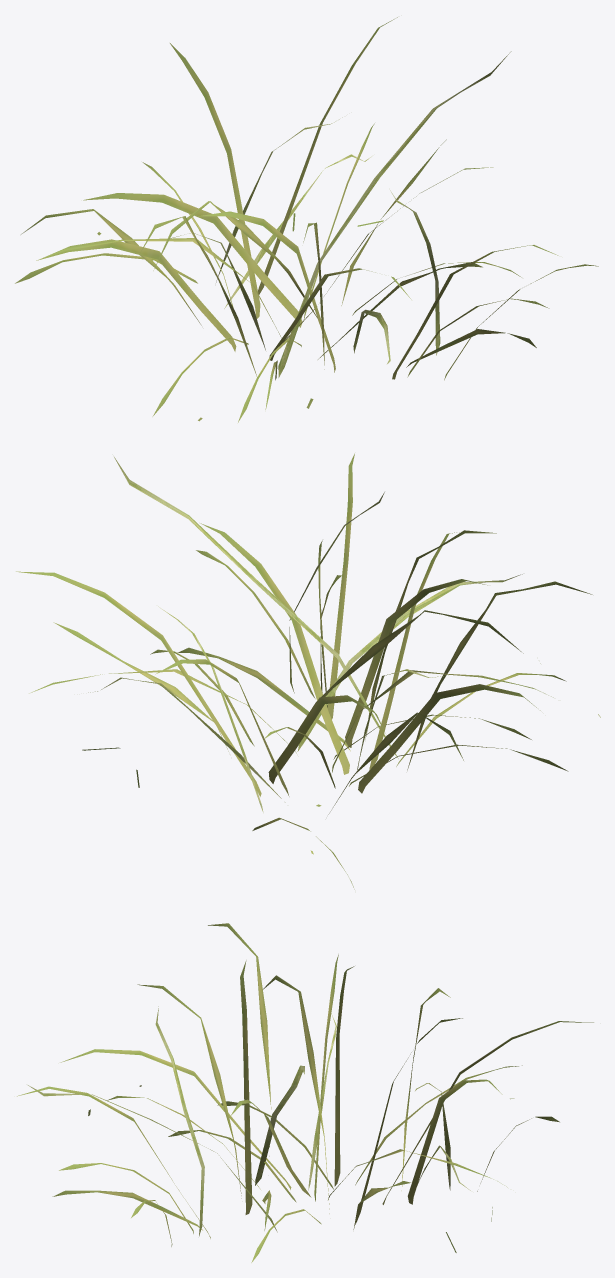
File: grass_meadow_lod1.glb
The picture shows the model from 3 angles, top to bottom: view 1: azimuth 30°, elevation 25°; view 2: azimuth 150°, elevation 25°; view 3: azimuth 270°, elevation 25°; orthographic projection. The views are drawn at different scales.
Visible parts, largest first — view 1: bq_Grass_Bromus-erectus_A_winter; view 2: bq_Grass_Bromus-erectus_A_winter; view 3: bq_Grass_Bromus-erectus_A_winter.
Part boxes in pixels (x1,y1,x2,y2): bq_Grass_Bromus-erectus_A_winter: [15, 17, 598, 422]; bq_Grass_Bromus-erectus_A_winter: [16, 453, 600, 889]; bq_Grass_Bromus-erectus_A_winter: [17, 923, 593, 1262].
Bounding box in the file's own units: 0.7425 × 0.3974 × 0.8218.
Materials: 1 (1 with a texture image).
